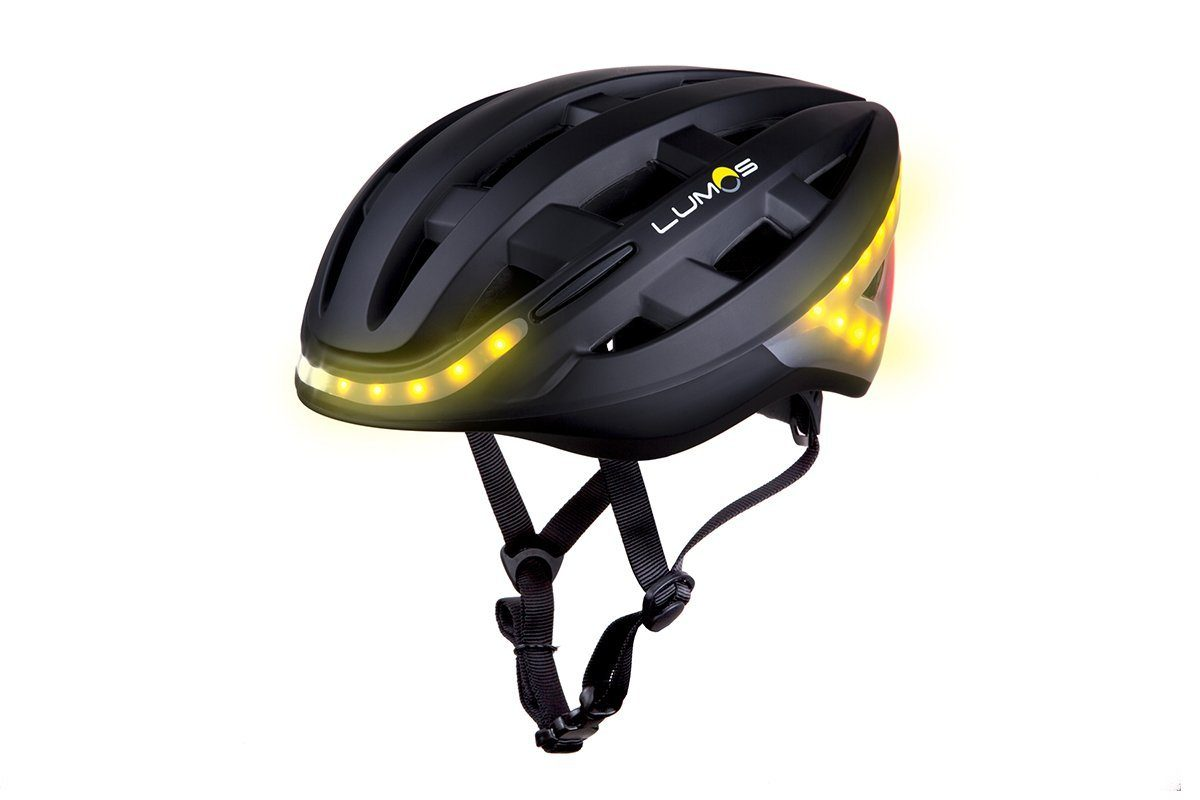with_helmet: (280, 59, 909, 762)
